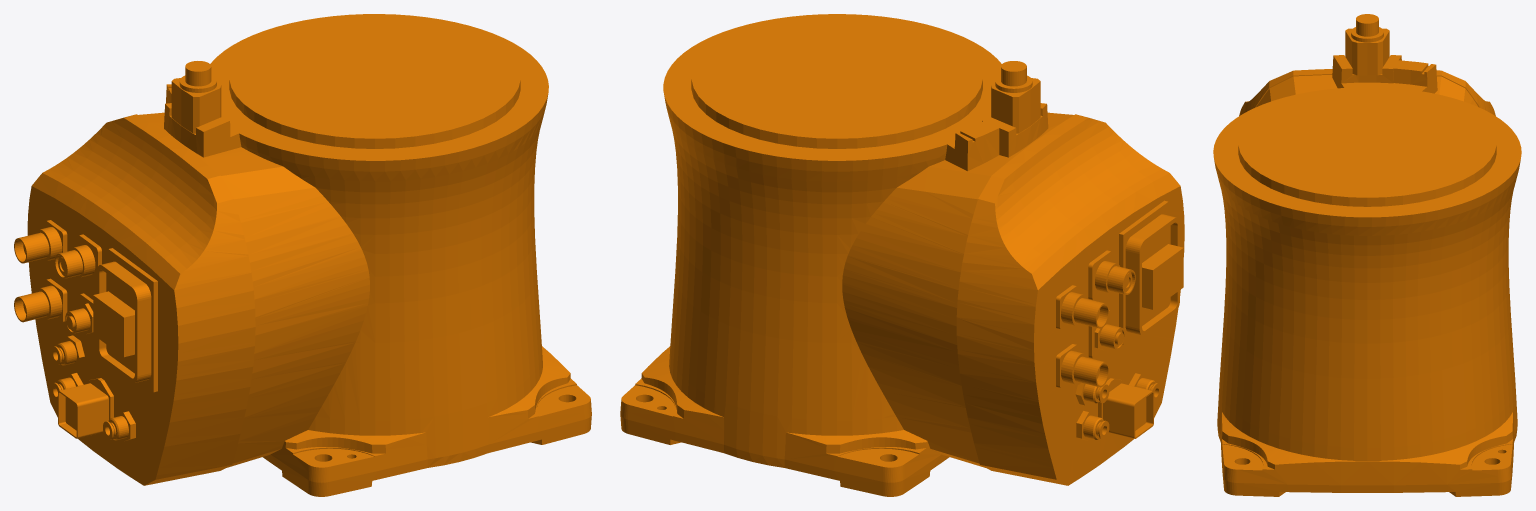
3 views of the same model, side by side, from view 1: azimuth 30°, elevation 25°; view 2: azimuth 150°, elevation 25°; view 3: azimuth 270°, elevation 25° (orthographic). The views are drawn at different scales.
Visible parts, largest first — view 1: Base; view 2: Base; view 3: Base.
Part boxes in pixels (box(x1,y1,x2,y2)): Base: box(14, 14, 591, 496); Base: box(620, 14, 1184, 496); Base: box(1213, 14, 1521, 496).
Size of the model in its own units: 32.83 by 26.08 by 21.47.
